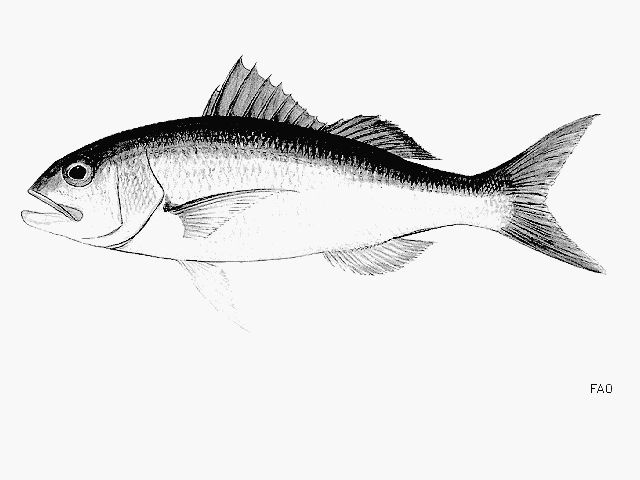fish: (21, 52, 608, 332)
